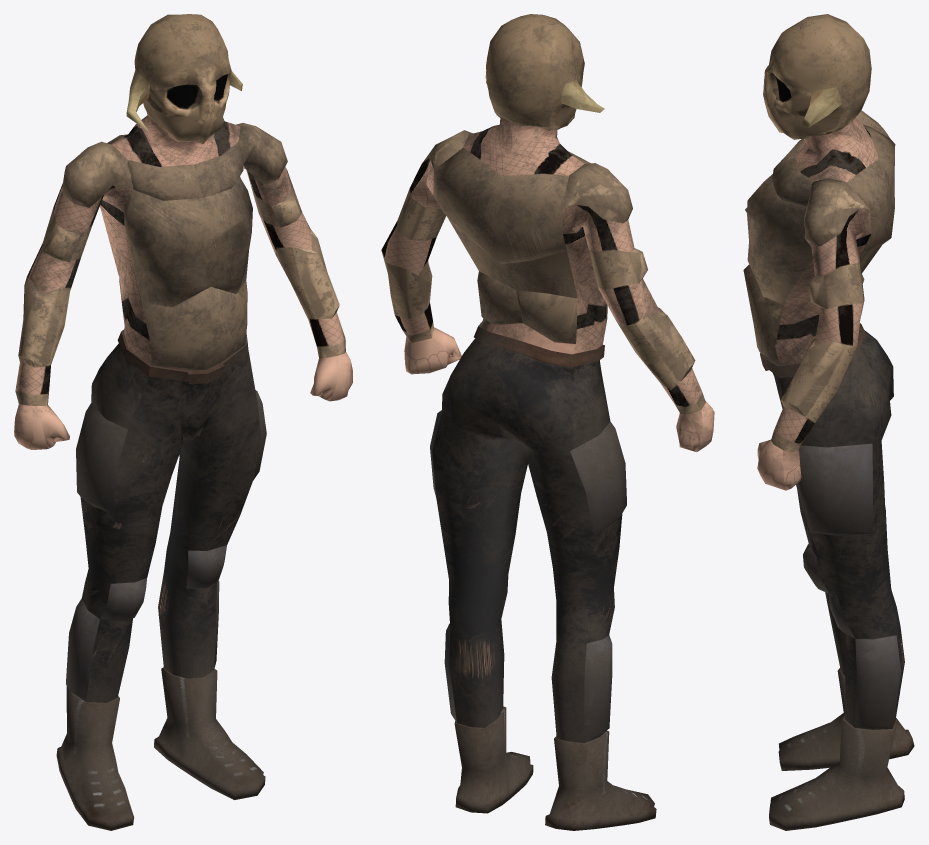
The model's file is Anim_cogerobjeto_npc1.0040.obj.
The picture shows the model from 3 angles, left to right: view 1: azimuth 30°, elevation 25°; view 2: azimuth 150°, elevation 25°; view 3: azimuth 270°, elevation 25°; orthographic projection.
Visible parts, largest first — view 1: NPC2; view 2: NPC2; view 3: NPC2.
Boxes of the visible parts, bbox=[...] form: NPC2: bbox=[14, 14, 352, 830]; NPC2: bbox=[381, 14, 714, 830]; NPC2: bbox=[743, 14, 914, 830].
Bounding box in the file's own units: 4.21 × 9.81 × 1.94.
